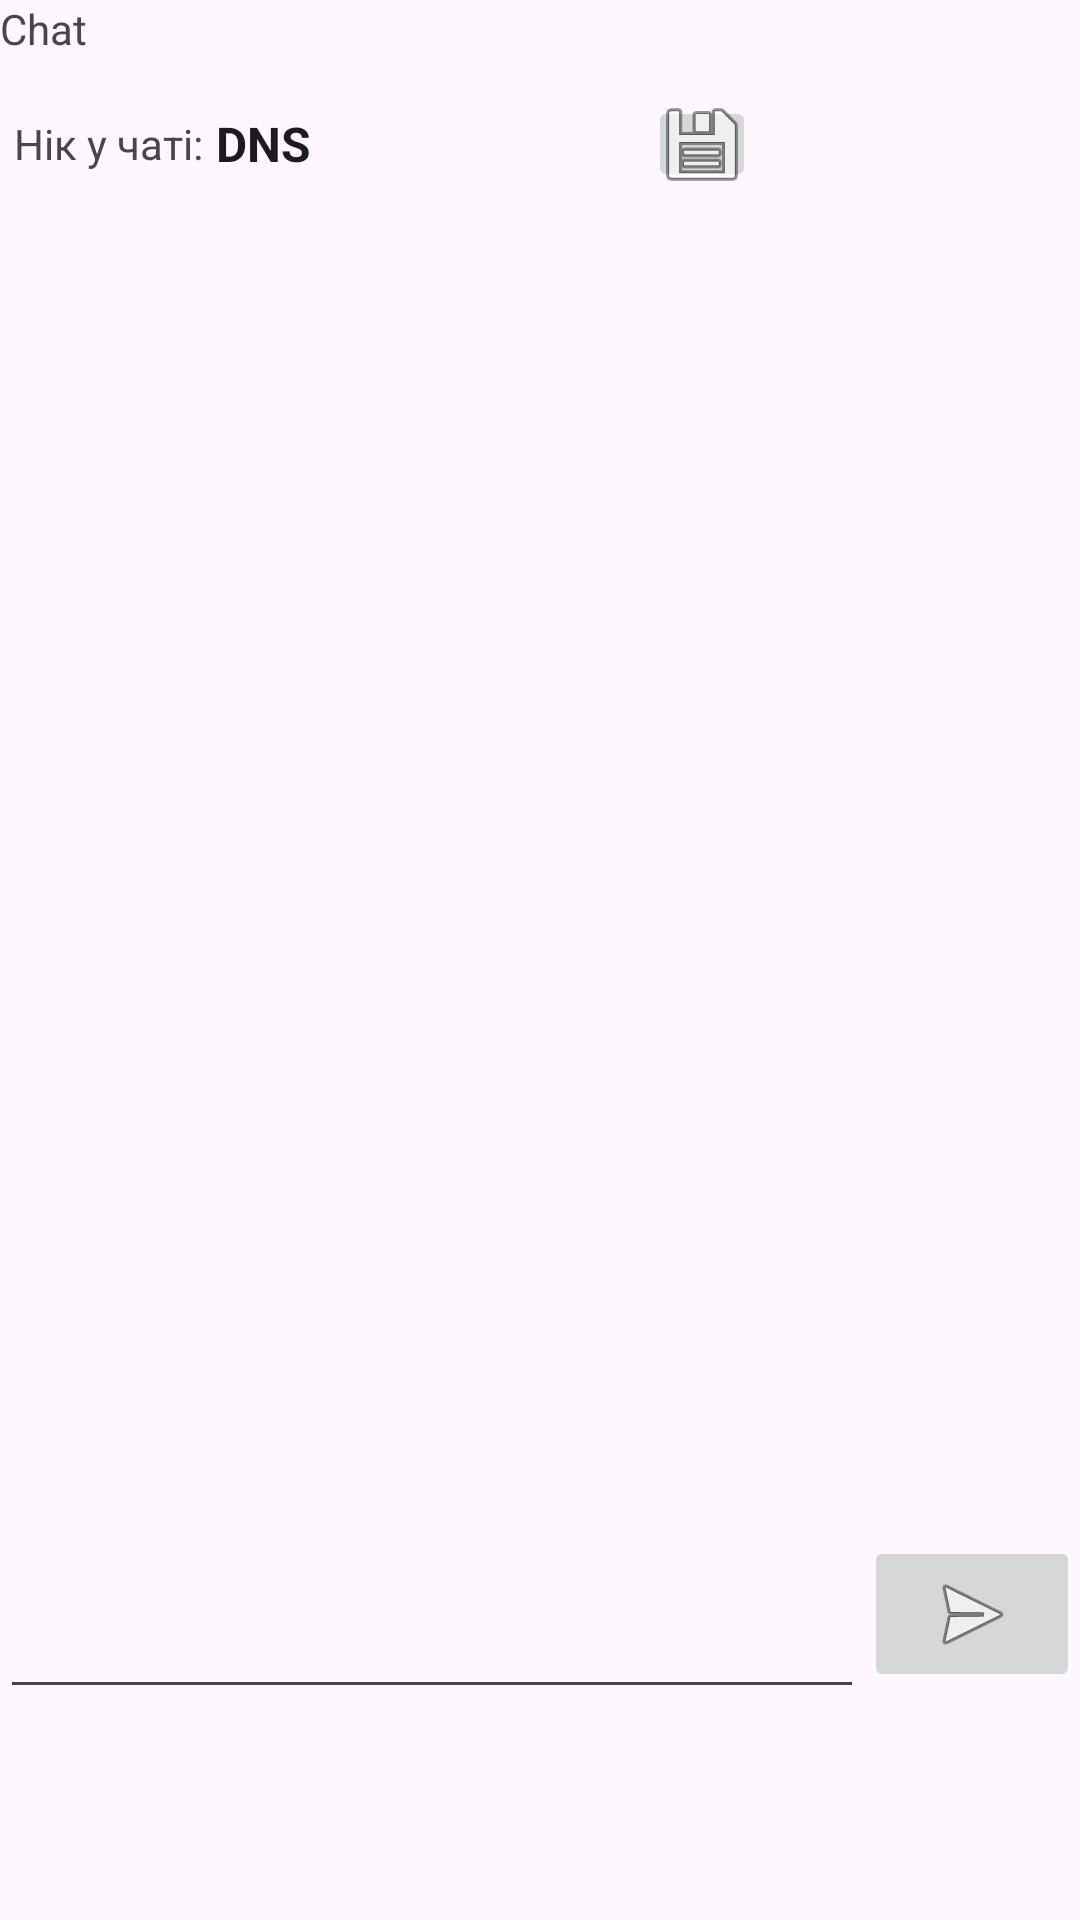

Icons on this 1080px x 1920px Android screen, each with the point to tap as [x,y]:
save: [702,144]
send: [972,1614]
